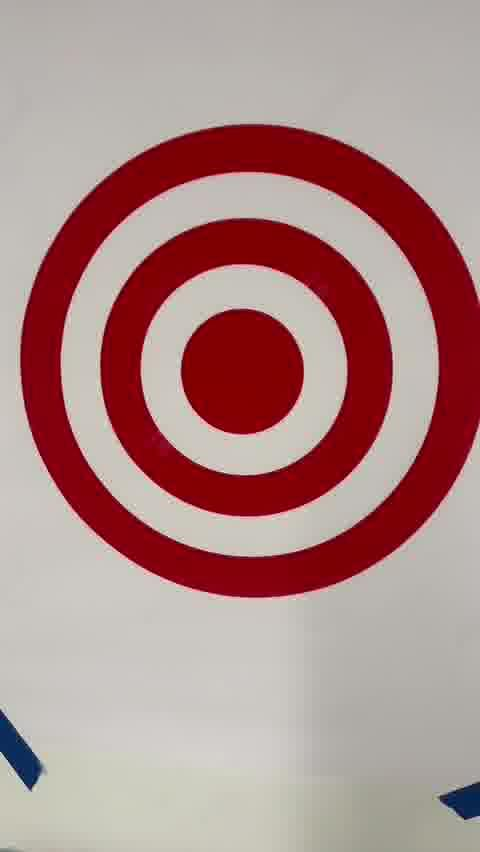target_red: (20, 124, 480, 598)
